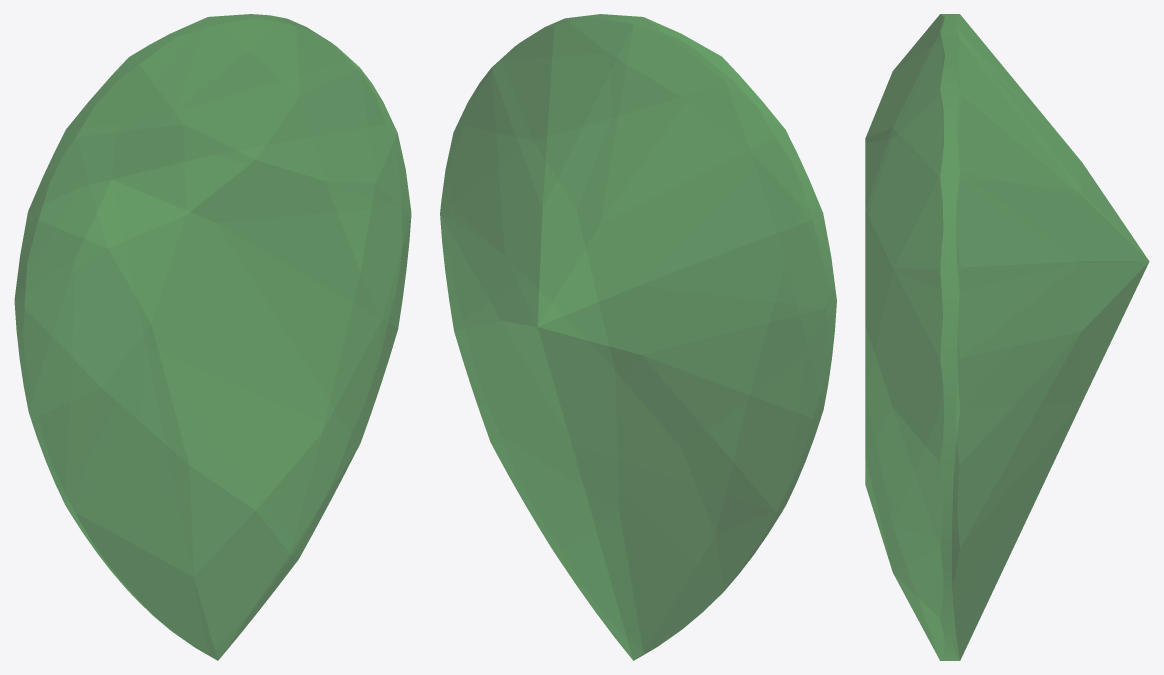
Rendered from Gem-Emerald.glb.
The picture shows the model from 3 angles, left to right: view 1: azimuth 30°, elevation 25°; view 2: azimuth 150°, elevation 25°; view 3: azimuth 270°, elevation 25°; orthographic projection.
Visible parts, largest first — view 1: emerald; view 2: emerald; view 3: emerald.
Boxes of the visible parts, x1,y1,x2,y2 form: emerald: [14, 14, 411, 660]; emerald: [440, 14, 836, 660]; emerald: [865, 14, 1149, 660].
Size of the model in its own units: 3.5 by 5.5 by 2.25.
